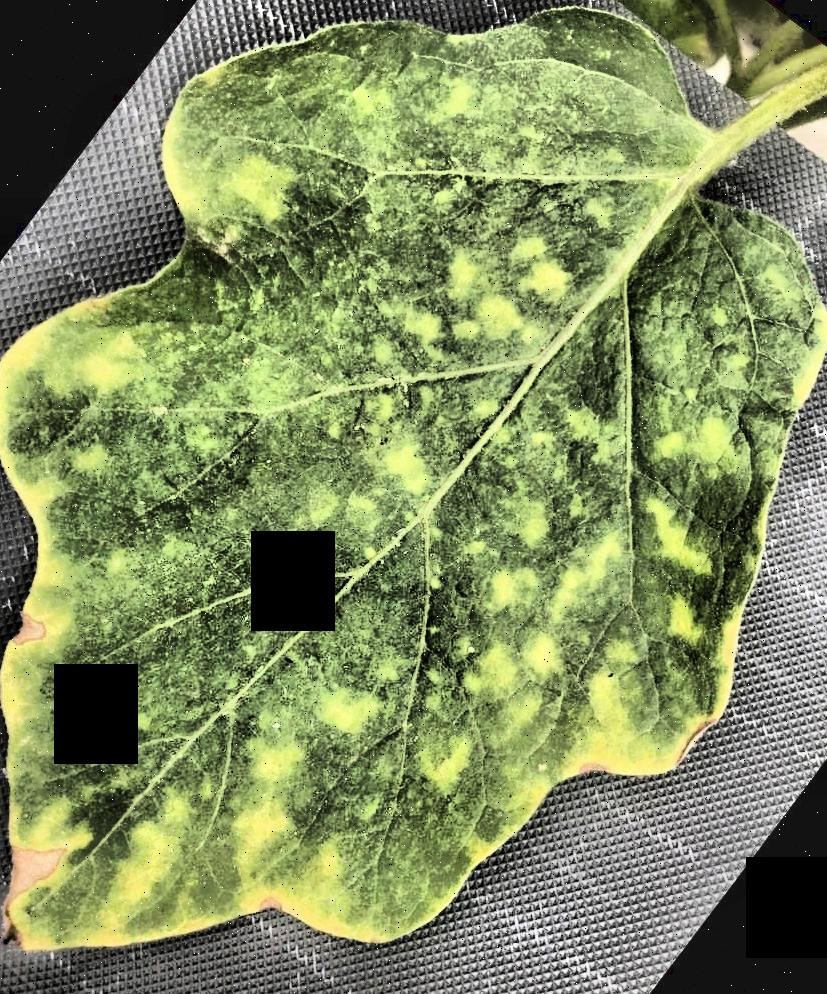Non-critical Stress: (1, 0, 827, 994)
